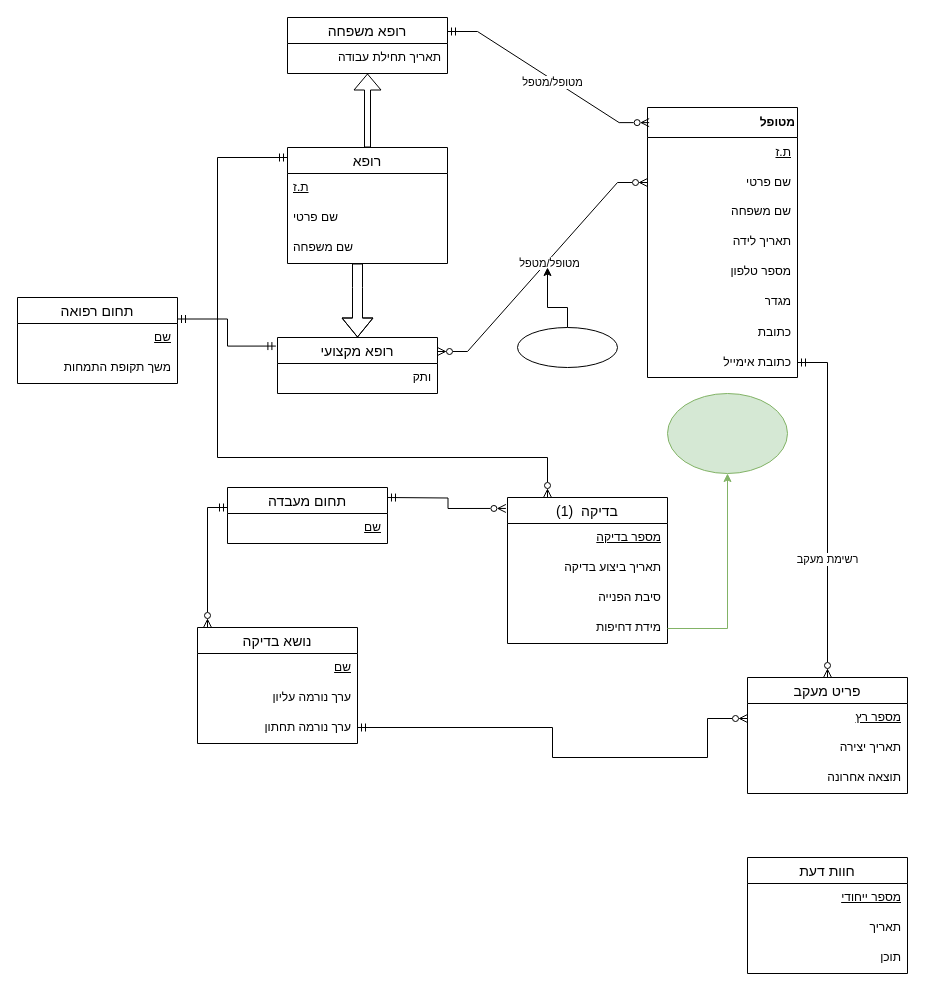
Some shapes in this 925 by 994 pixel diagram are drawn without their labels. The centre of each missing label's shape, as x and y in pixels:
"לא דחוף, דחוף, דחוף מאוד" goes at point 727,433.
"תאריך שיוך" goes at point 567,347.
